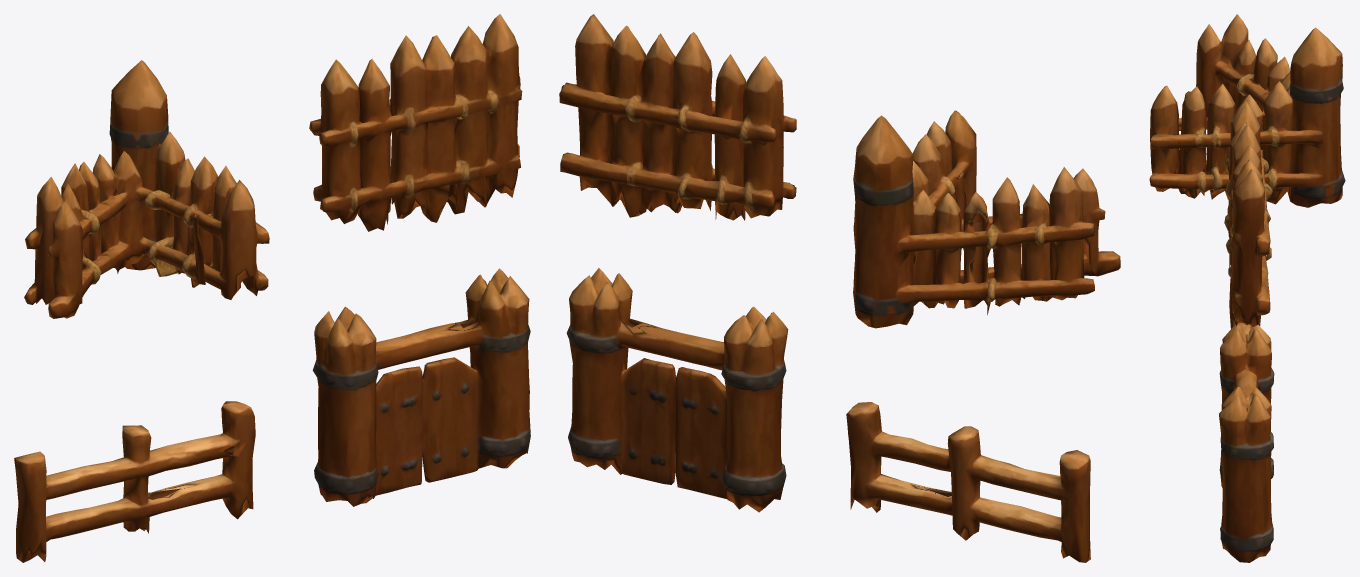
3 renders of one model, left to right at view 1: azimuth 30°, elevation 25°; view 2: azimuth 150°, elevation 25°; view 3: azimuth 270°, elevation 25°, orthographic. The views are drawn at different scales.
Parts seen in each view (by area): view 1: world; view 2: world; view 3: world.
Part boxes in pixels (x1,y1,x2,y2): world: [14, 14, 530, 562]; world: [559, 14, 1120, 562]; world: [1149, 14, 1345, 562].
Size of the model in its own units: 0.9979 by 0.8476 by 0.3798.
1 material, 1 textured.
